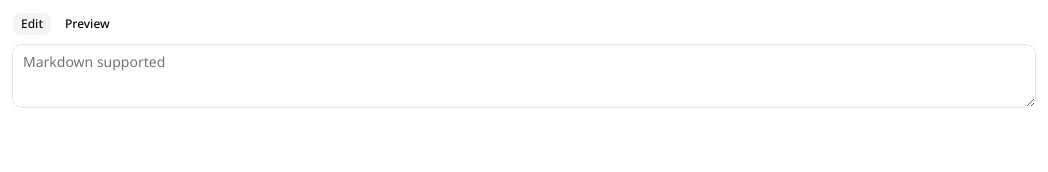
Scenario: DescriptionField › saves once on blur and shows Saved
Type "hello" into the text box named "Description" at (524, 76), box [12, 44, 1036, 108]
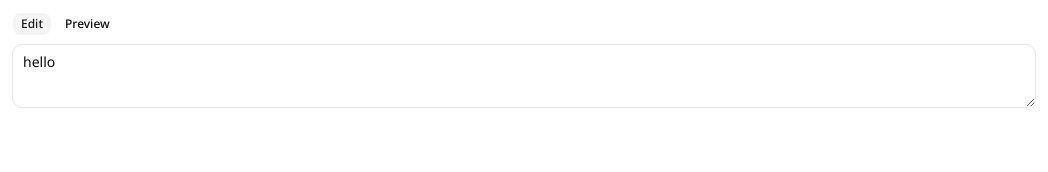
Leave the text box named "Description", box [12, 44, 1036, 108]
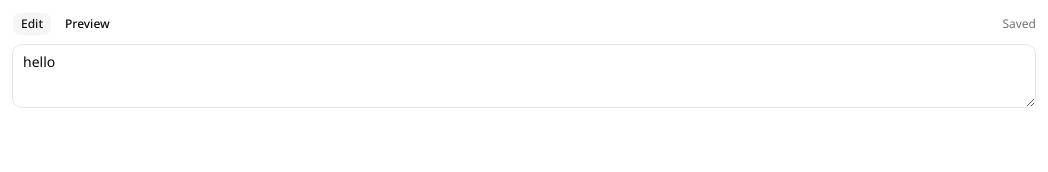
Now the text "Saved" is shown, box [1002, 16, 1036, 32]
